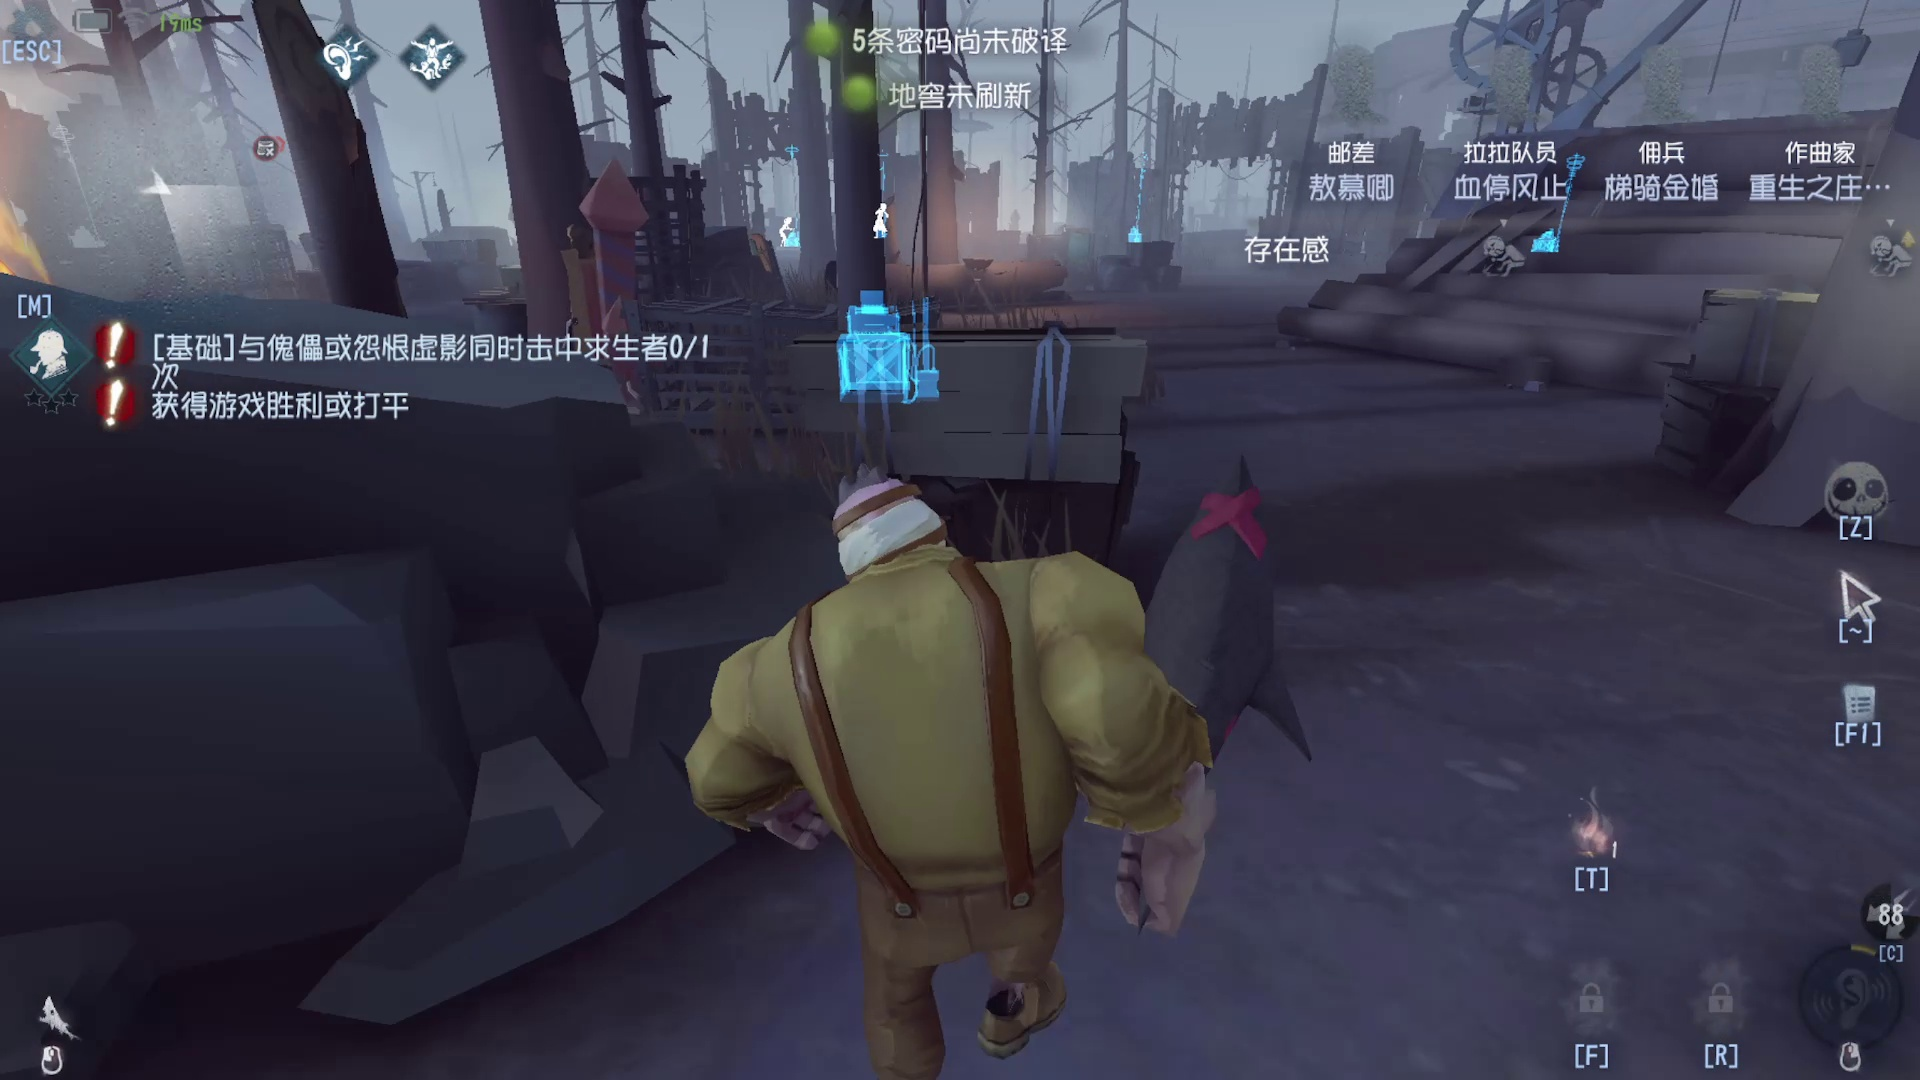密码机: (822, 46, 975, 438), (1122, 111, 1174, 273)
狂欢之椅: (534, 166, 684, 438)
